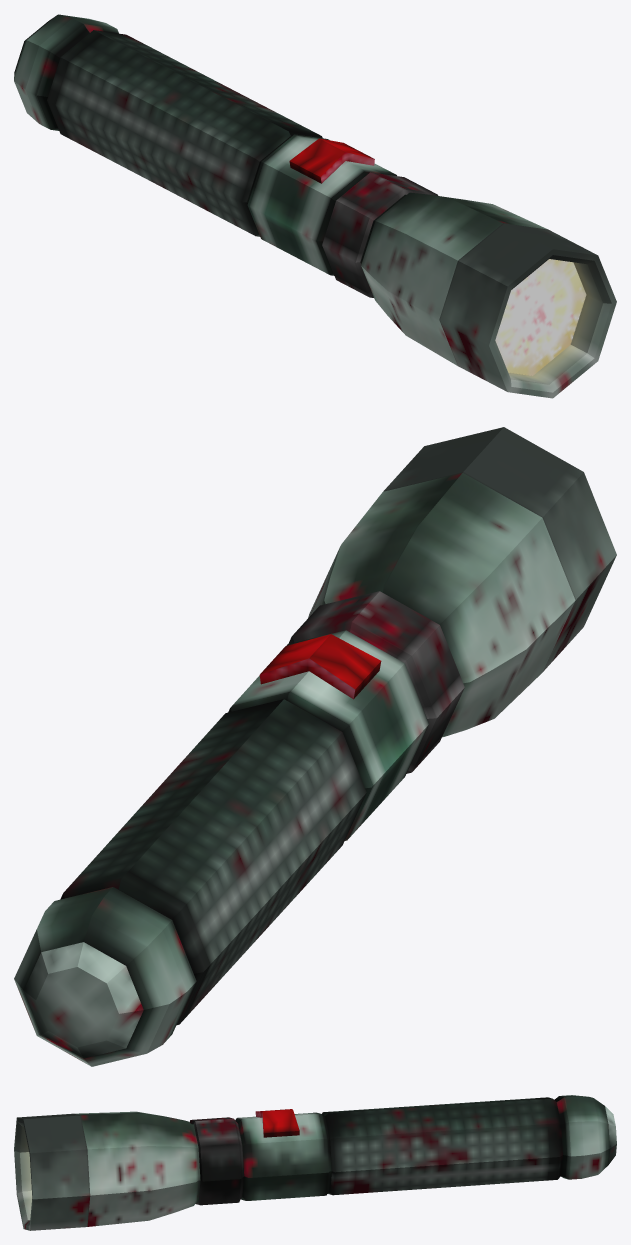
File: low_poly_torch.glb
3 renders of one model, top to bottom at view 1: azimuth 30°, elevation 25°; view 2: azimuth 150°, elevation 25°; view 3: azimuth 270°, elevation 25°, orthographic. The views are drawn at different scales.
Parts seen in each view (by area): view 1: Torch_obj; view 2: Torch_obj; view 3: Torch_obj.
Part boxes in pixels (x1,y1,x2,y2): Torch_obj: (14, 14, 616, 398); Torch_obj: (14, 427, 616, 1066); Torch_obj: (14, 1095, 616, 1230).
Bounding box in the file's own units: 0.0981 × 0.0619 × 0.3081.
1 material, 1 textured.
